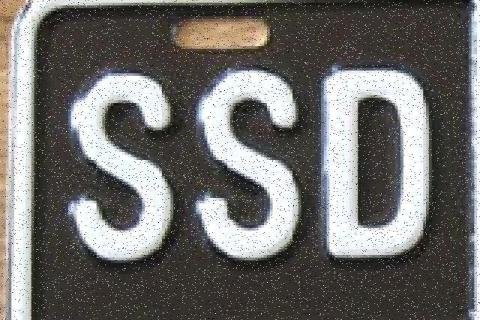LicensePlate: (11, 0, 471, 314)
